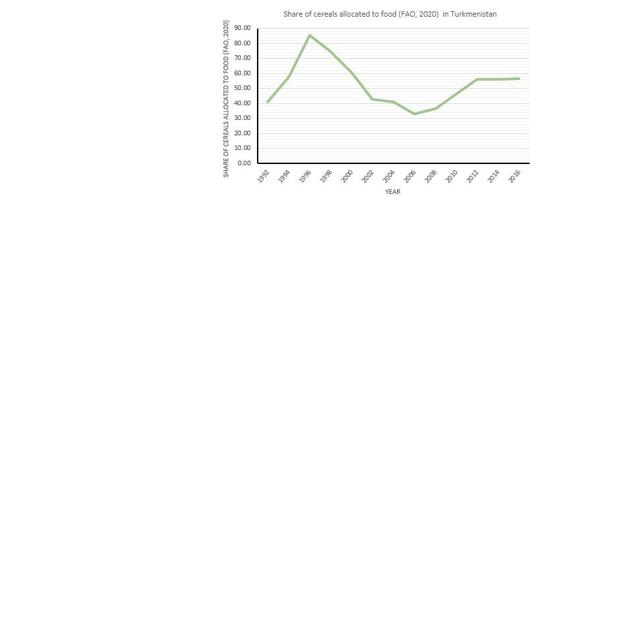Graph: (215, 4, 537, 202)
